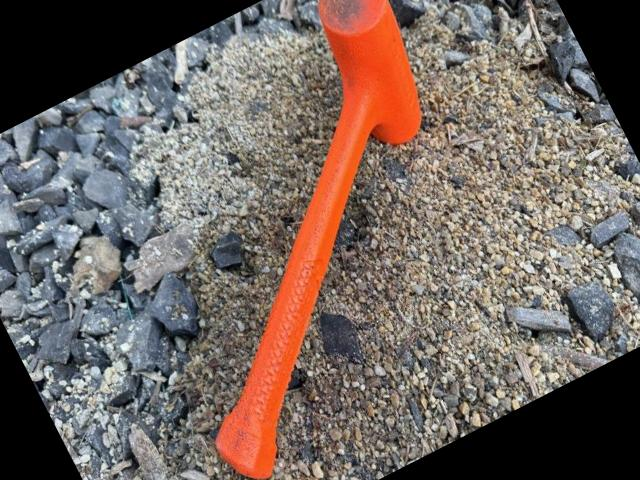hammer: (50, 0, 559, 480)
